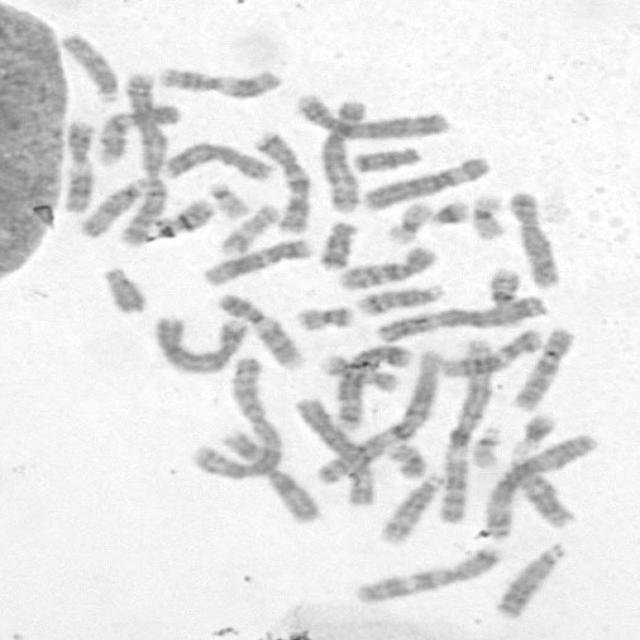A1: (311, 345, 447, 487), (434, 335, 497, 525)
A2: (186, 355, 283, 480), (114, 65, 174, 247)
A3: (480, 430, 600, 540), (373, 294, 548, 344)
B4: (290, 89, 454, 141), (146, 310, 247, 372)
B5: (332, 342, 412, 432), (318, 97, 370, 213)
C10: (508, 323, 580, 412), (332, 241, 441, 293)
C11: (156, 63, 284, 98), (57, 117, 96, 215)
C12: (199, 235, 316, 288), (432, 325, 544, 379)
C6: (290, 394, 380, 506), (358, 153, 492, 212)
C7: (348, 542, 504, 606), (248, 127, 315, 236)
C8: (506, 189, 562, 288), (157, 138, 272, 182)
C9: (212, 289, 308, 371), (92, 100, 182, 168)
D13: (491, 540, 569, 621), (506, 453, 579, 530)
D14: (374, 471, 446, 545), (353, 281, 446, 316)
D15: (57, 29, 123, 104), (75, 176, 149, 240)
E16: (314, 350, 402, 395), (148, 195, 216, 238)
E17: (215, 201, 280, 256), (481, 266, 524, 326)
E18: (314, 217, 359, 271), (348, 144, 424, 174)
F19: (383, 199, 433, 246), (467, 190, 508, 242)
F20: (291, 301, 357, 332), (382, 438, 427, 480)
G21: (508, 407, 558, 456), (425, 196, 470, 227)
G22: (204, 180, 252, 222), (467, 421, 503, 470)
X: (218, 427, 324, 526)
Y: (96, 263, 151, 316)
